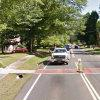Tree: (9, 2, 67, 46)
